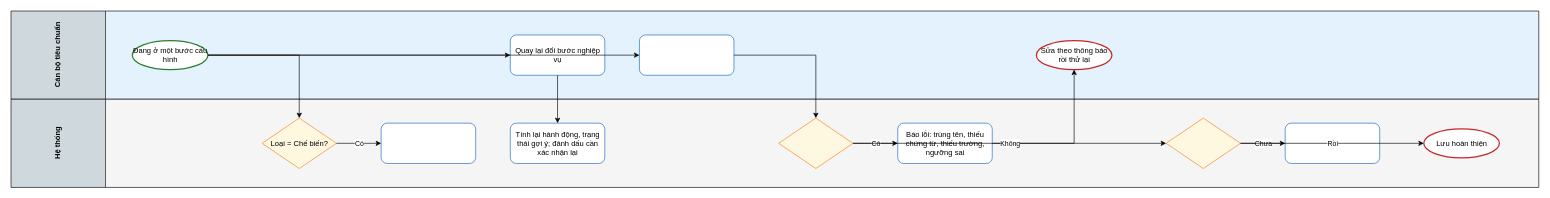
Some shapes in this 1550 by 198 pixel diagram are drawn without their labels. The shapes that lost their labels are listed below. From the top down, each one's centre as x and y in pixels, then its label:
At pixel 686 54: "Nhấn Lưu nháp / Tiếp tục".
At pixel 428 143: "Bỏ qua bước 3; mở thông tin lô cho đầu ra".
At pixel 815 143: "Có lỗi?".
At pixel 1203 143: "Đã xong bước 6?".
At pixel 1332 143: "Lưu, nhãn Chưa hoàn thiện".
